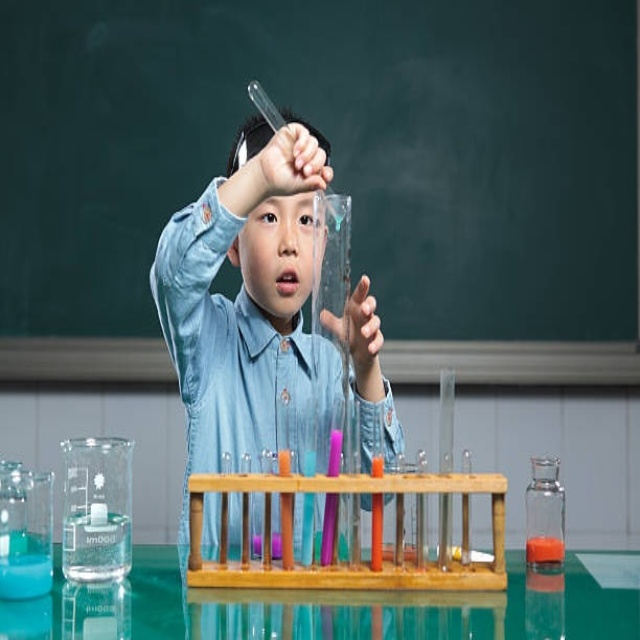Sin_gafas: (255, 202, 314, 235)
Sin_guantes: (252, 120, 335, 204), (320, 272, 384, 372)
Sin_mascara: (260, 260, 306, 312)
